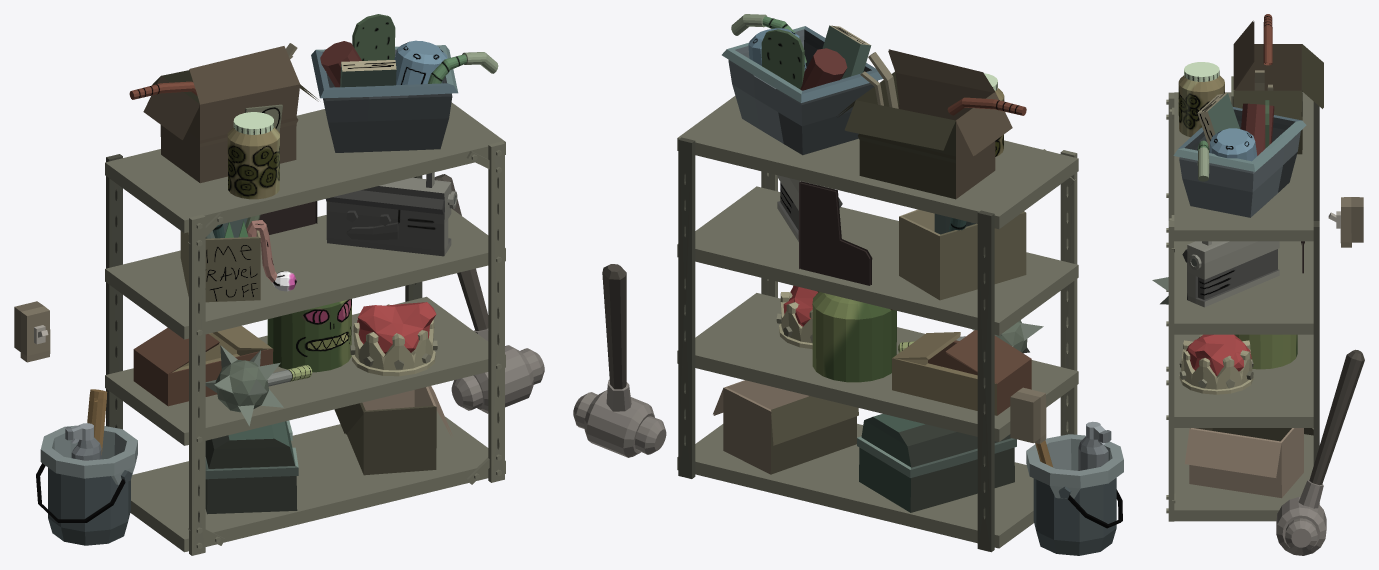
File: shelf.obj
3 views of the same model, side by side, from view 1: azimuth 30°, elevation 25°; view 2: azimuth 150°, elevation 25°; view 3: azimuth 270°, elevation 25° (orthographic). The views are drawn at different scales.
Parts seen in each view (by area): view 1: Interior.001_Interior.003; view 2: Interior.001_Interior.003; view 3: Interior.001_Interior.003.
Part boxes in pixels (left/top/right/bottom): Interior.001_Interior.003: left=14, top=14, right=544, bottom=555; Interior.001_Interior.003: left=573, top=14, right=1123, bottom=555; Interior.001_Interior.003: left=1152, top=14, right=1364, bottom=555.
Size of the model in its own units: 3.5 by 2.86 by 1.42.
1 material, 1 textured.
